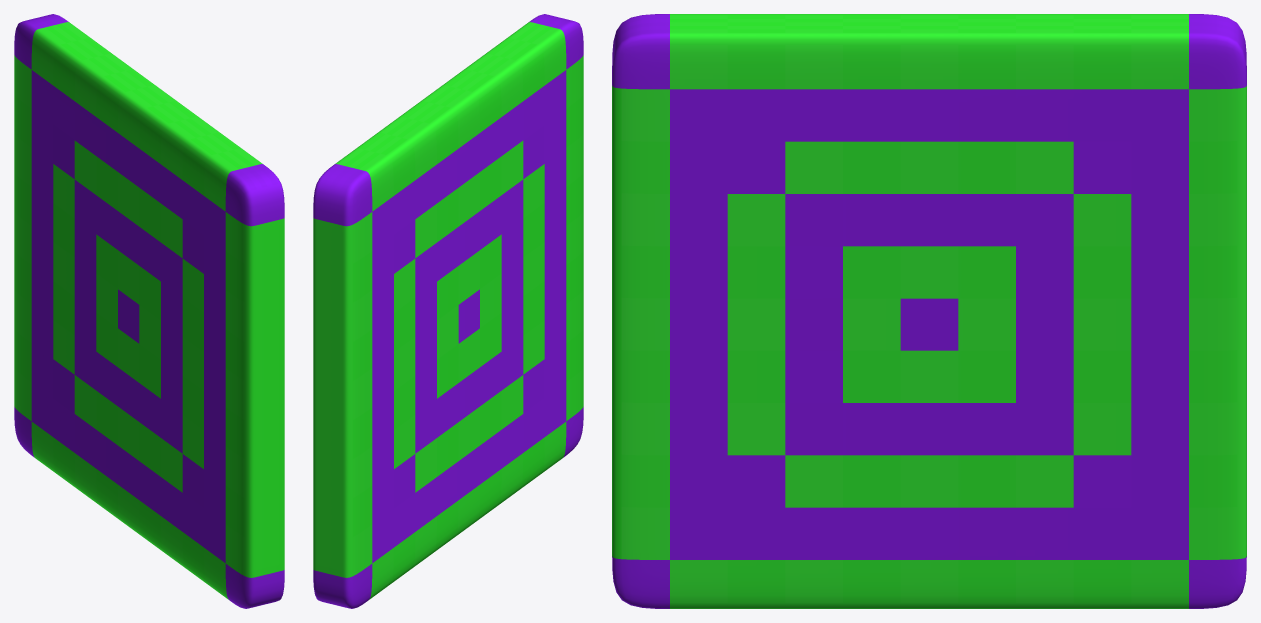
3 renders of one model, left to right at view 1: azimuth 30°, elevation 25°; view 2: azimuth 150°, elevation 25°; view 3: azimuth 270°, elevation 25°, orthographic. The views are drawn at different scales.
Parts seen in each view (by area): view 1: W1; view 2: W1; view 3: W1.
Part boxes in pixels (x1=…): W1: x1=14, y1=14, x2=284, y2=608; W1: x1=313, y1=14, x2=583, y2=608; W1: x1=612, y1=14, x2=1246, y2=608.
Bounding box in the file's own units: 0.3 × 3 × 3.
Materials: 1 (1 with a texture image).
